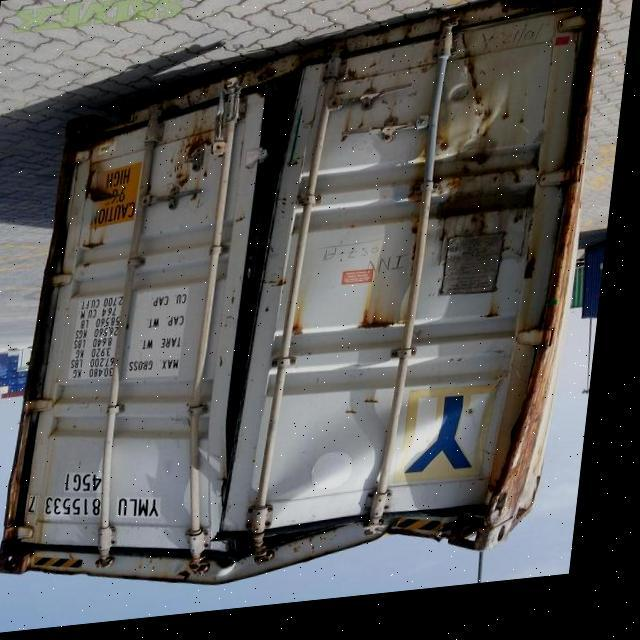rust: (407, 120, 530, 258), (166, 121, 226, 220), (336, 307, 405, 348), (77, 233, 128, 277)
